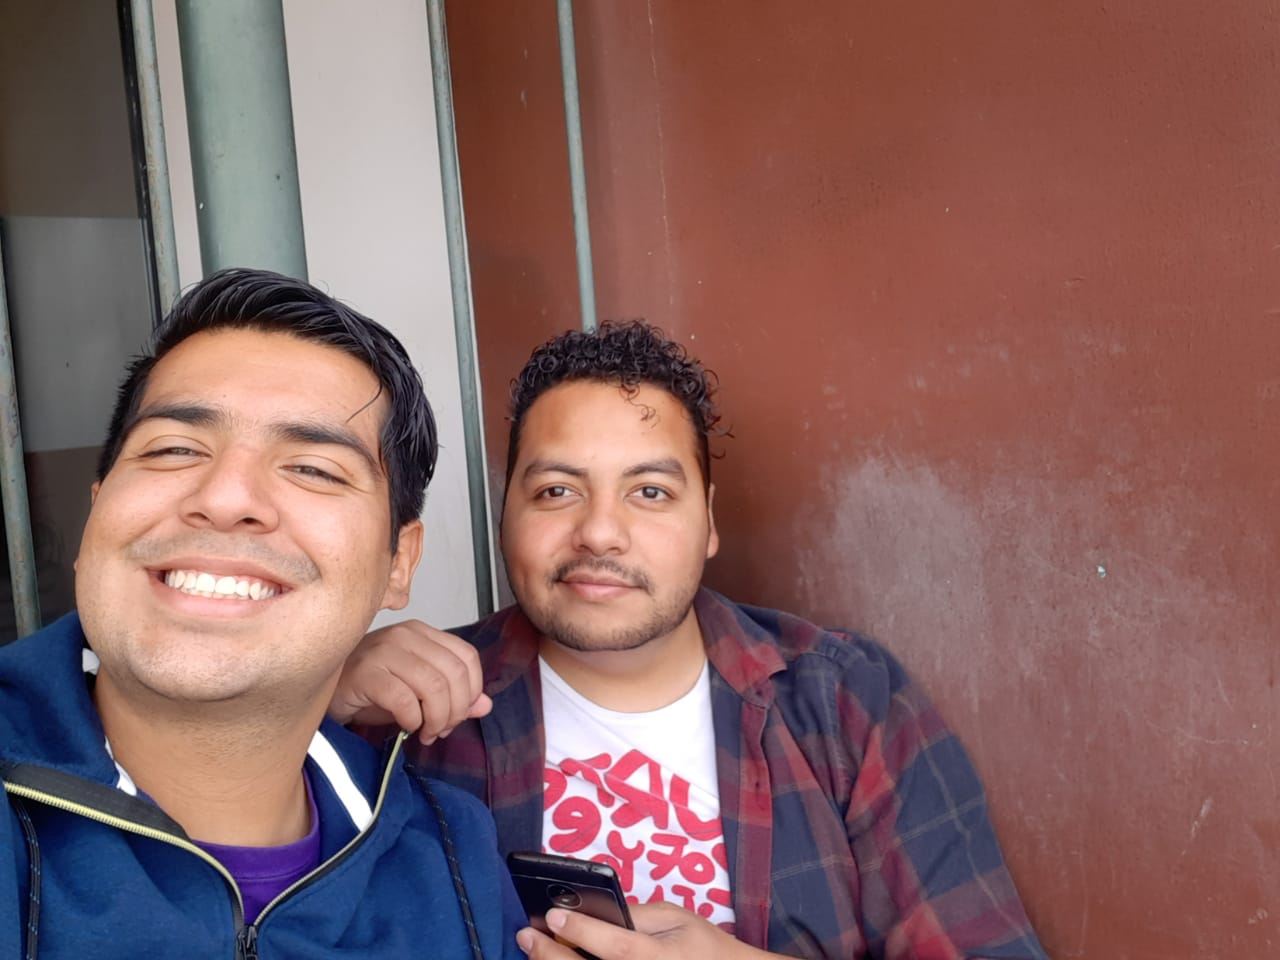Yoshi: (450, 314, 771, 738)
